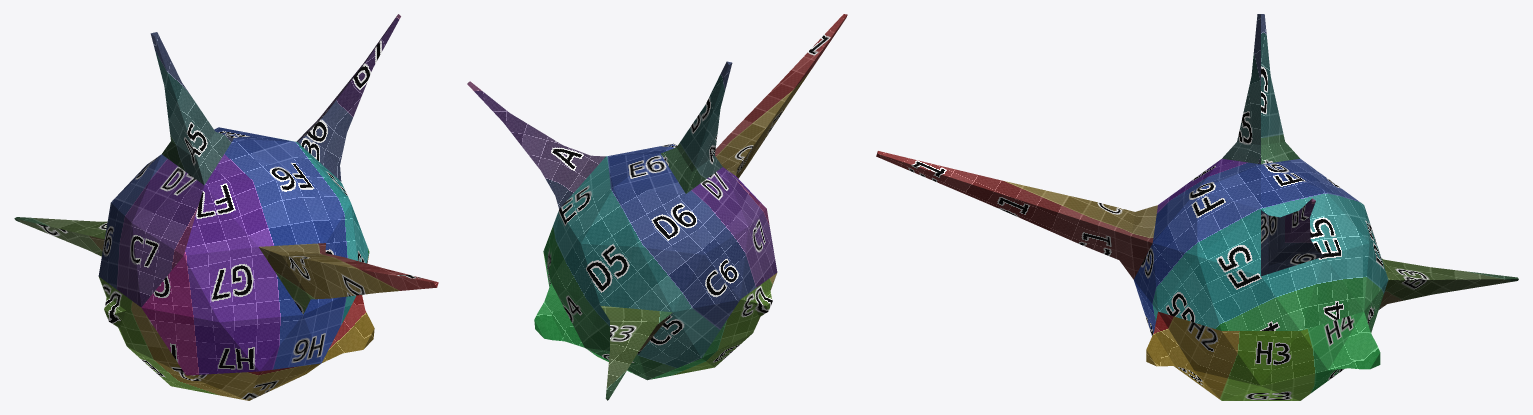
Rendered from Spiker3.glb.
3 views of the same model, side by side, from view 1: azimuth 30°, elevation 25°; view 2: azimuth 150°, elevation 25°; view 3: azimuth 270°, elevation 25° (orthographic). The views are drawn at different scales.
Visible parts, largest first — view 1: Icosphere; view 2: Icosphere; view 3: Icosphere.
Part boxes in pixels (x1,y1,x2,y2): Icosphere: (14,14,438,400); Icosphere: (467,14,847,400); Icosphere: (876,14,1518,400).
Bounding box in the file's own units: 2.68 × 3 × 5.05.
Materials: 1 (1 with a texture image).
